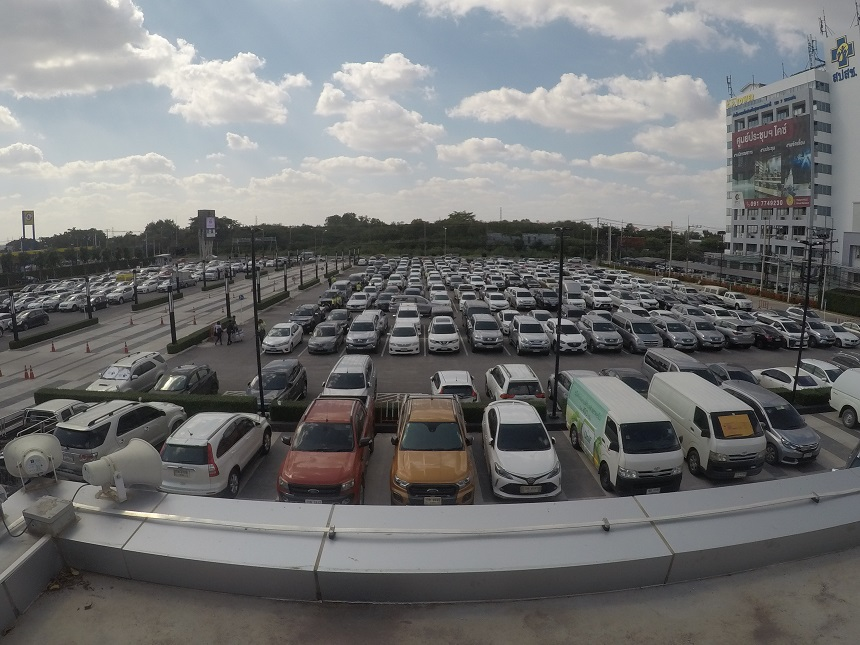busy: (281, 429, 362, 496), (488, 436, 561, 490), (388, 444, 468, 492), (603, 440, 684, 487), (80, 399, 161, 445), (695, 423, 763, 473), (186, 418, 259, 461), (771, 425, 826, 466), (253, 365, 305, 398), (329, 363, 375, 390), (828, 381, 860, 415), (23, 400, 55, 431), (490, 367, 534, 389), (103, 363, 143, 387), (259, 325, 294, 351), (432, 369, 469, 392), (168, 367, 205, 389), (648, 354, 688, 373), (514, 332, 551, 351), (305, 330, 338, 351), (345, 330, 378, 351), (388, 333, 419, 353), (713, 363, 746, 381), (468, 330, 500, 347), (429, 334, 459, 351), (556, 332, 584, 350), (729, 328, 753, 347), (786, 329, 810, 348), (610, 365, 640, 380), (631, 330, 657, 347), (762, 367, 791, 382), (595, 333, 620, 350), (558, 367, 588, 381), (697, 329, 720, 346), (838, 353, 859, 370), (761, 329, 781, 346), (673, 330, 694, 345), (807, 361, 829, 375), (814, 330, 834, 345), (839, 334, 857, 347)
